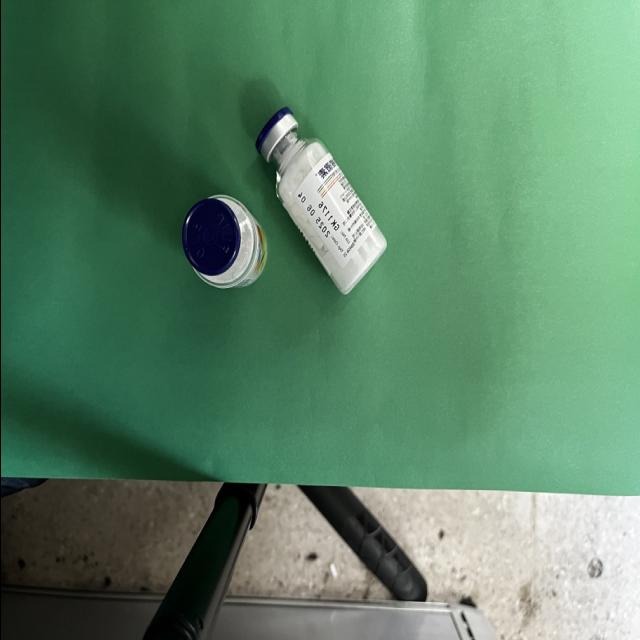Vials: (254, 106, 386, 295), (180, 195, 266, 289)
